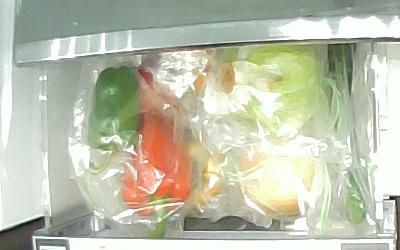cucumber_vinyl: (326, 43, 367, 223)
grapefruit_vinyl: (239, 150, 314, 216)
lettuce_vinyl: (218, 42, 322, 141)
paprika_vinyl: (121, 117, 192, 237), (85, 66, 140, 175)
persimmon_vinyl: (182, 139, 224, 205)
